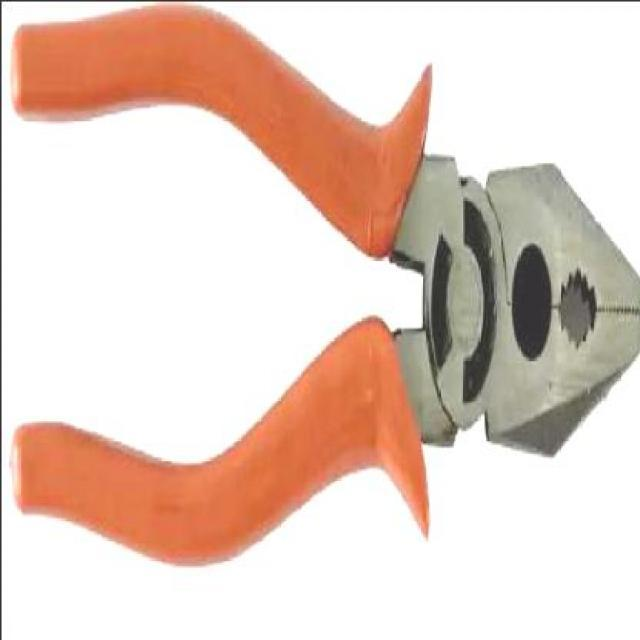pliers: (11, 8, 634, 567)
